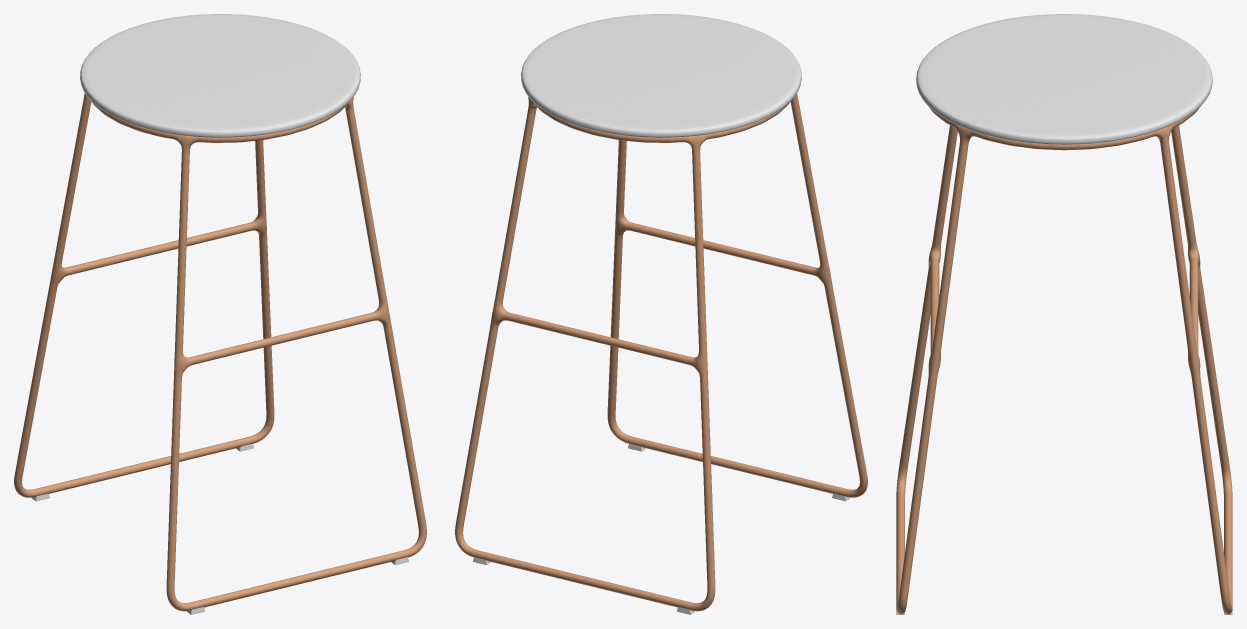
Rendered from High bar chair.fbx.
3 views of the same model, side by side, from view 1: azimuth 30°, elevation 25°; view 2: azimuth 150°, elevation 25°; view 3: azimuth 270°, elevation 25° (orthographic). The views are drawn at different scales.
Parts seen in each view (by area): view 1: Circle.004, Circle.003; view 2: Circle.004, Circle.003; view 3: Circle.004, Circle.003.
Part boxes in pixels (bbox=[...]): Circle.004: bbox=[80, 14, 360, 137]; Circle.003: bbox=[14, 93, 426, 611]; Circle.004: bbox=[521, 14, 801, 137]; Circle.003: bbox=[455, 93, 867, 611]; Circle.004: bbox=[916, 14, 1212, 144]; Circle.003: bbox=[896, 106, 1232, 614].
Bounding box in the file's own units: 32.56 × 55.07 × 34.65.
